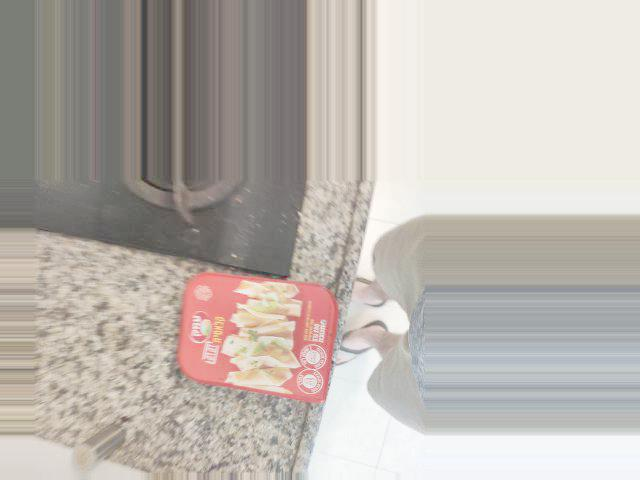cheese: (184, 269, 338, 400)
